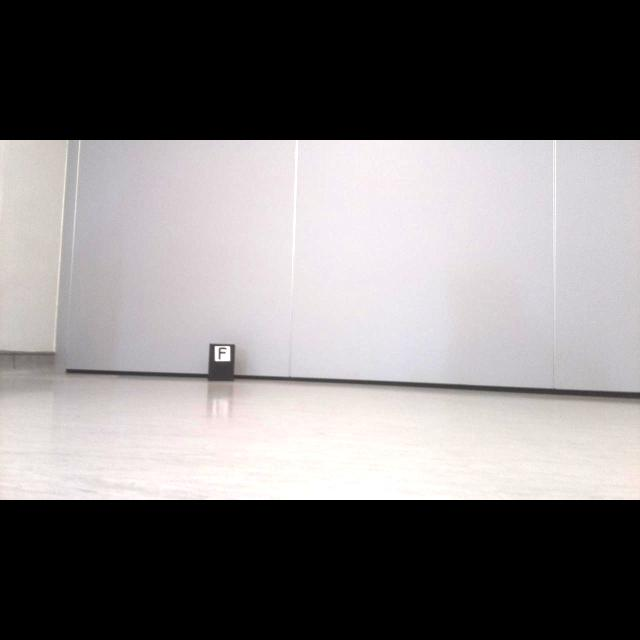F: (218, 347, 227, 360)
